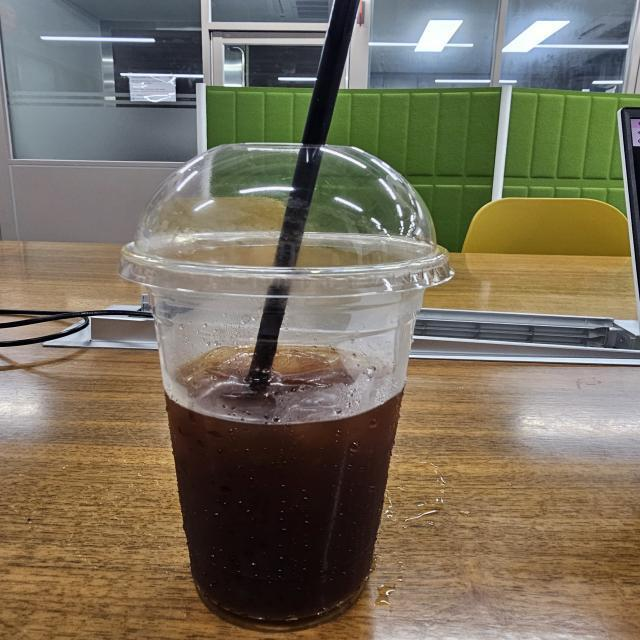cup: (116, 136, 458, 633)
